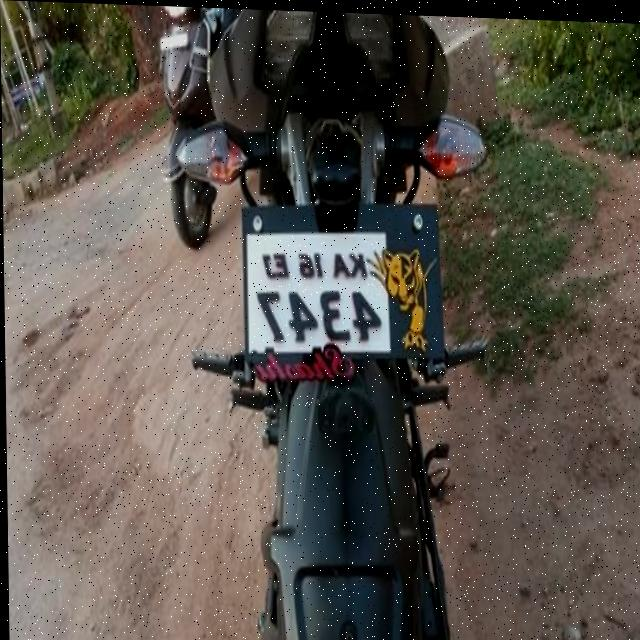plate: (239, 187, 445, 368)
